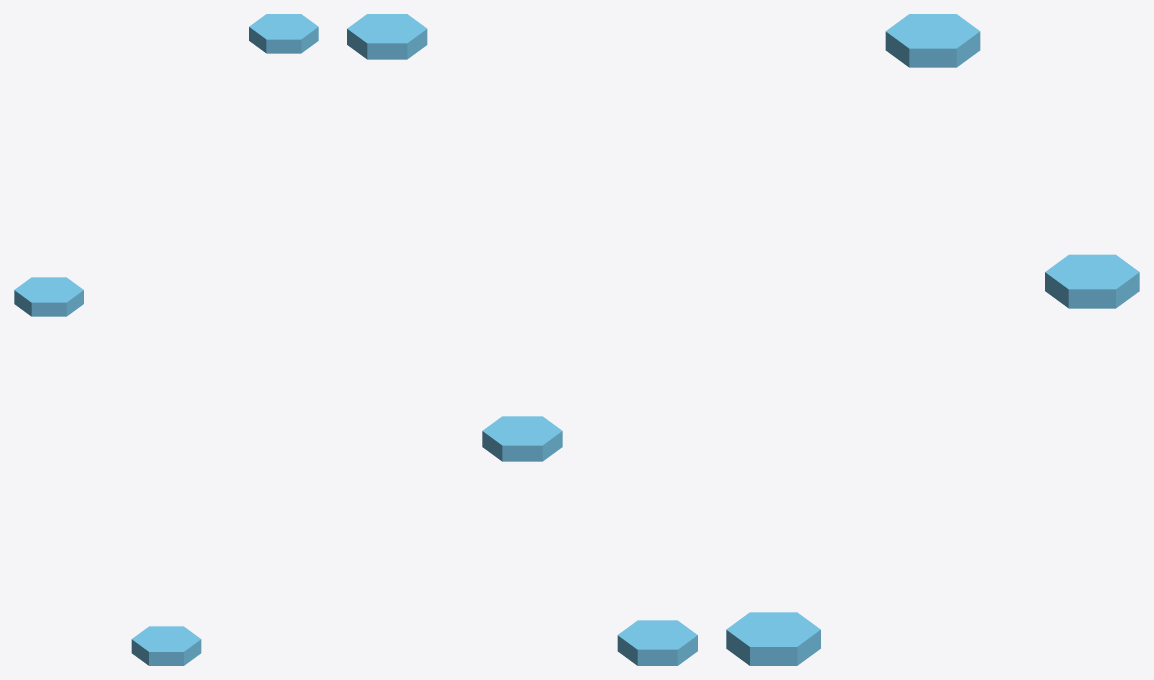
File: fxlib-motion.glb
3 views of the same model, side by side, from view 1: azimuth 30°, elevation 25°; view 2: azimuth 150°, elevation 25°; view 3: azimuth 270°, elevation 25° (orthographic). The views are drawn at different scales.
Parts seen in each view (by area): view 1: Plates; view 2: Plates; view 3: Plates.
Part boxes in pixels (left/top/right/bottom): Plates: left=14, top=14, right=318, bottom=665; Plates: left=347, top=14, right=697, bottom=665; Plates: left=726, top=14, right=1139, bottom=665.
Size of the model in its own units: 0.1362 by 0.308 by 0.1572.
